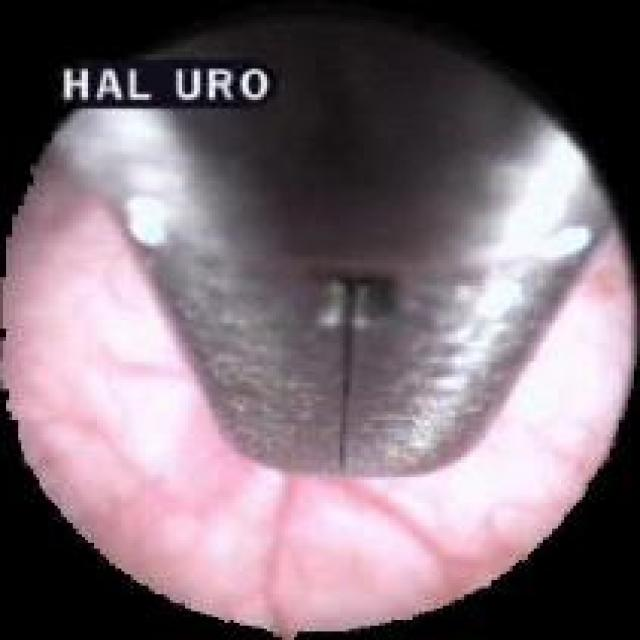color misalignment: (50, 58, 257, 118), (315, 269, 393, 335), (342, 273, 358, 471)
instrument: (60, 30, 618, 494)
saturation: (408, 292, 599, 513), (46, 245, 203, 473), (316, 504, 425, 580)
specularity: (474, 121, 588, 265), (93, 109, 196, 264), (467, 263, 524, 310)
